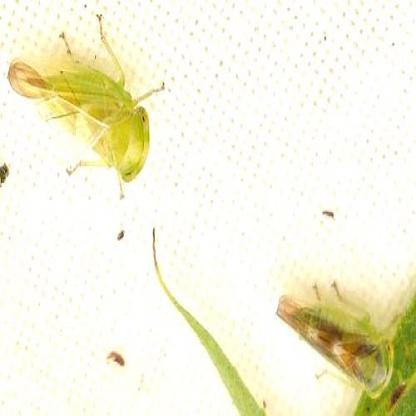green-leafhopper: (12, 16, 158, 191), (278, 278, 401, 393)
